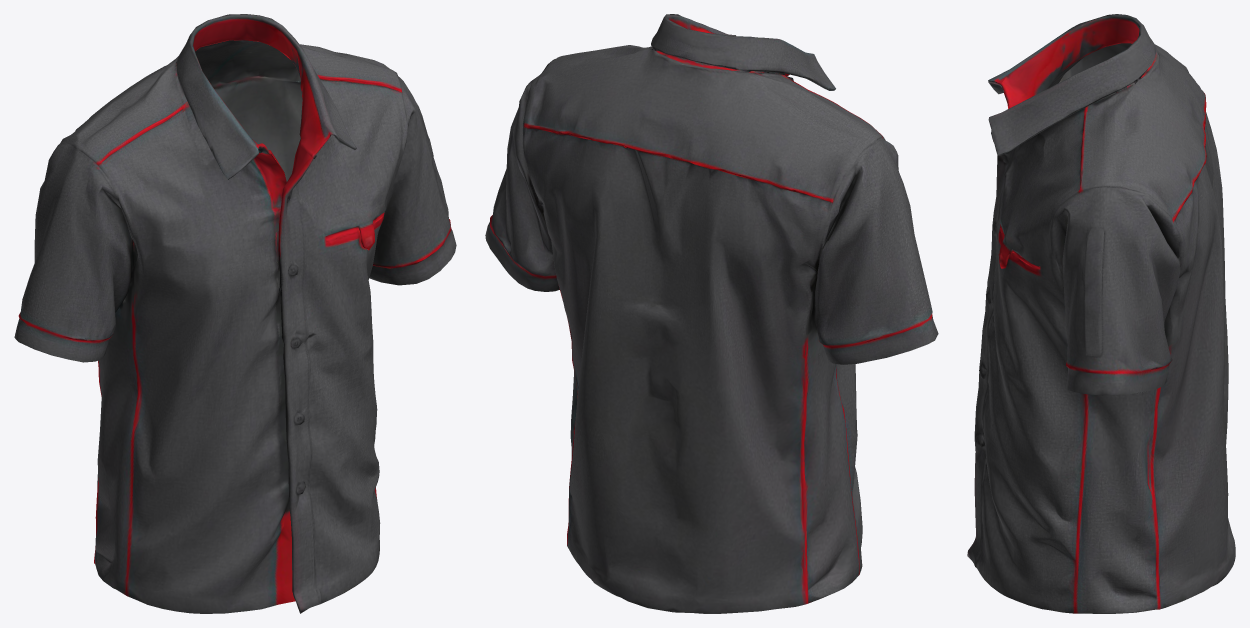
Rendered from kk-012-mini.glb.
3 views of the same model, side by side, from view 1: azimuth 30°, elevation 25°; view 2: azimuth 150°, elevation 25°; view 3: azimuth 270°, elevation 25° (orthographic). The views are drawn at different scales.
Parts seen in each view (by area): view 1: tripo_node_577dfa5a-6ee3-4584-813b-5f81728f3c69; view 2: tripo_node_577dfa5a-6ee3-4584-813b-5f81728f3c69; view 3: tripo_node_577dfa5a-6ee3-4584-813b-5f81728f3c69.
Boxes of the visible parts, x1,y1,x2,y2 form: tripo_node_577dfa5a-6ee3-4584-813b-5f81728f3c69: (14, 14, 456, 613); tripo_node_577dfa5a-6ee3-4584-813b-5f81728f3c69: (485, 14, 938, 613); tripo_node_577dfa5a-6ee3-4584-813b-5f81728f3c69: (967, 14, 1235, 613).
Size of the model in its own units: 0.8384 by 0.9799 by 0.4497.
Materials: 1 (1 with a texture image).
